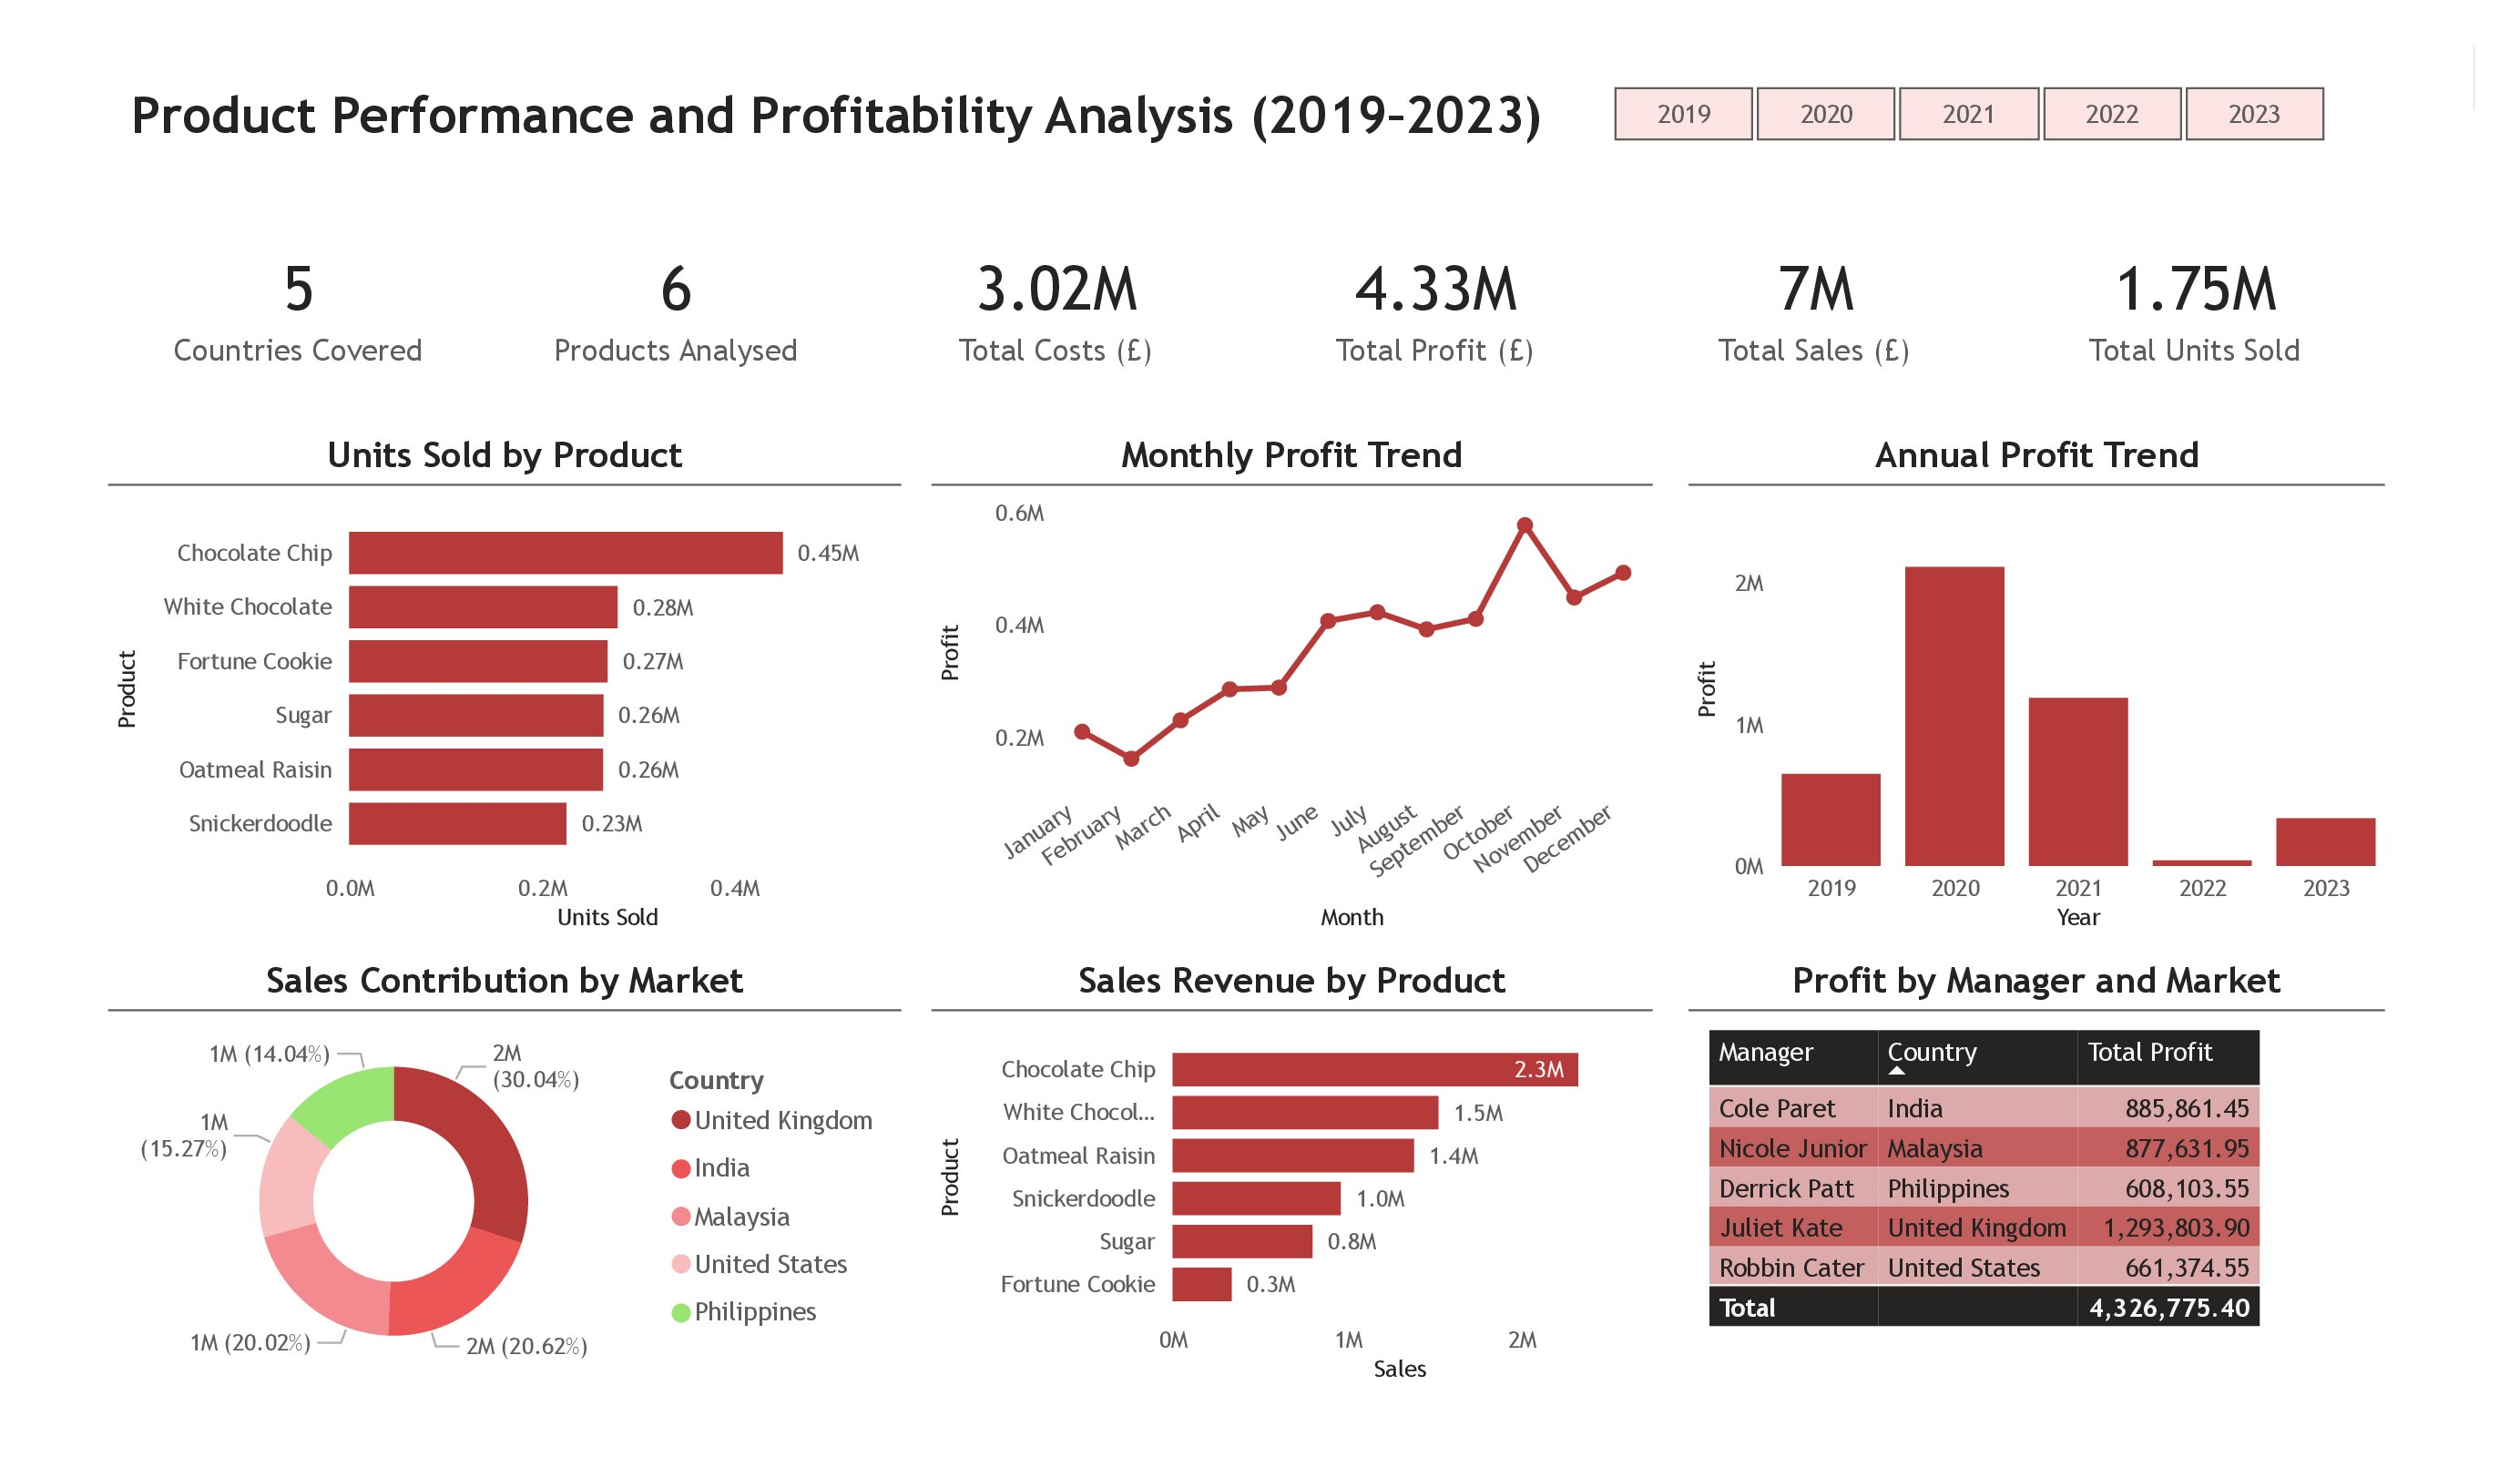

Layout of this report page (visuals, bound fields, positions):
{"tool":"powerbi","page":{"name":"Main","canvas":[1280,720],"ordinal":0},"visuals":[{"type":"textbox","box":[33,0,767.9,73.4],"z":0},{"type":"card","fields":{"Values":["Data.Total Costs"]},"box":[432.1,86.8,200.5,99],"z":1000},{"type":"card","fields":{"Values":["Data.Total Profit"]},"box":[632.7,86.8,199.3,99],"z":2000},{"type":"card","fields":{"Values":["Data.Total Sales"]},"box":[832,86.8,200.5,99],"z":3000},{"type":"card","fields":{"Values":["Data.Total Units"]},"box":[1032.6,86.8,200.5,99],"z":4000},{"type":"card","fields":{"Values":["Data.Countries"]},"box":[33.5,86.8,199.3,99],"z":5000},{"type":"card","fields":{"Values":["Data.Products"]},"box":[232.8,86.8,199.3,99],"z":6000},{"type":"barChart","fields":{"Category":["Data.Product"],"Y":["Data.Units Sold"]},"box":[33,204.2,418.2,265.4],"z":7000},{"type":"donutChart","title":"Sales Contribution by Market","fields":{"Category":["Data.Country"],"Y":["Data.Total Sales"]},"box":[33,480.6,418.2,227.4],"z":8000},{"type":"barChart","title":"Sales Revenue by Product","fields":{"Category":["Data.Product"],"Y":["Data.Sale"]},"box":[467.1,480.6,380.3,227.4],"z":9000},{"type":"lineChart","title":"Monthly Profit Trend","fields":{"Category":["Data.Date.Variation.Date Hierarchy.Month"],"Y":["Data.Profit"]},"box":[467.1,204.2,380.3,265.4],"z":10000},{"type":"columnChart","title":"Annual Profit Trend","fields":{"Category":["Data.Date.Variation.Date Hierarchy.Year"],"Y":["Data.Profit"]},"box":[865.8,204.2,366.8,265.4],"z":11000},{"type":"tableEx","title":"Profit by Manager and Market","fields":{"Values":["Data.Manager","Data.Country","Data.Profit"]},"box":[865.8,480.6,366.8,227.4],"z":12000},{"type":"slicer","fields":{"Values":["Data.Date.Variation.Date Hierarchy.Year"]},"box":[801,14.7,424.3,42.8],"z":13000}]}

Visuals, with their boxes on the page's 1280x720 design canvas (x1, y1, x2, y2). These are canvas units, not pixel positions in the 2520x1457 screenshot, which may show the page scaled, cropped or inside an application window:
textbox: [x1=33, y1=0, x2=801, y2=73]
card - Data.Total Costs: [x1=432, y1=87, x2=633, y2=186]
card - Data.Total Profit: [x1=633, y1=87, x2=832, y2=186]
card - Data.Total Sales: [x1=832, y1=87, x2=1032, y2=186]
card - Data.Total Units: [x1=1033, y1=87, x2=1233, y2=186]
card - Data.Countries: [x1=34, y1=87, x2=233, y2=186]
card - Data.Products: [x1=233, y1=87, x2=432, y2=186]
barChart - Data.Product x Data.Units Sold: [x1=33, y1=204, x2=451, y2=470]
"Sales Contribution by Market" donutChart: [x1=33, y1=481, x2=451, y2=708]
"Sales Revenue by Product" barChart: [x1=467, y1=481, x2=847, y2=708]
"Monthly Profit Trend" lineChart: [x1=467, y1=204, x2=847, y2=470]
"Annual Profit Trend" columnChart: [x1=866, y1=204, x2=1233, y2=470]
"Profit by Manager and Market" tableEx: [x1=866, y1=481, x2=1233, y2=708]
slicer - Data.Date.Variation.Date Hierarchy.Year: [x1=801, y1=15, x2=1225, y2=58]
